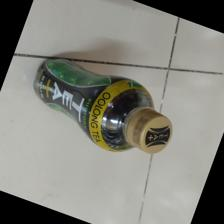Olong: (32, 57, 176, 156)
